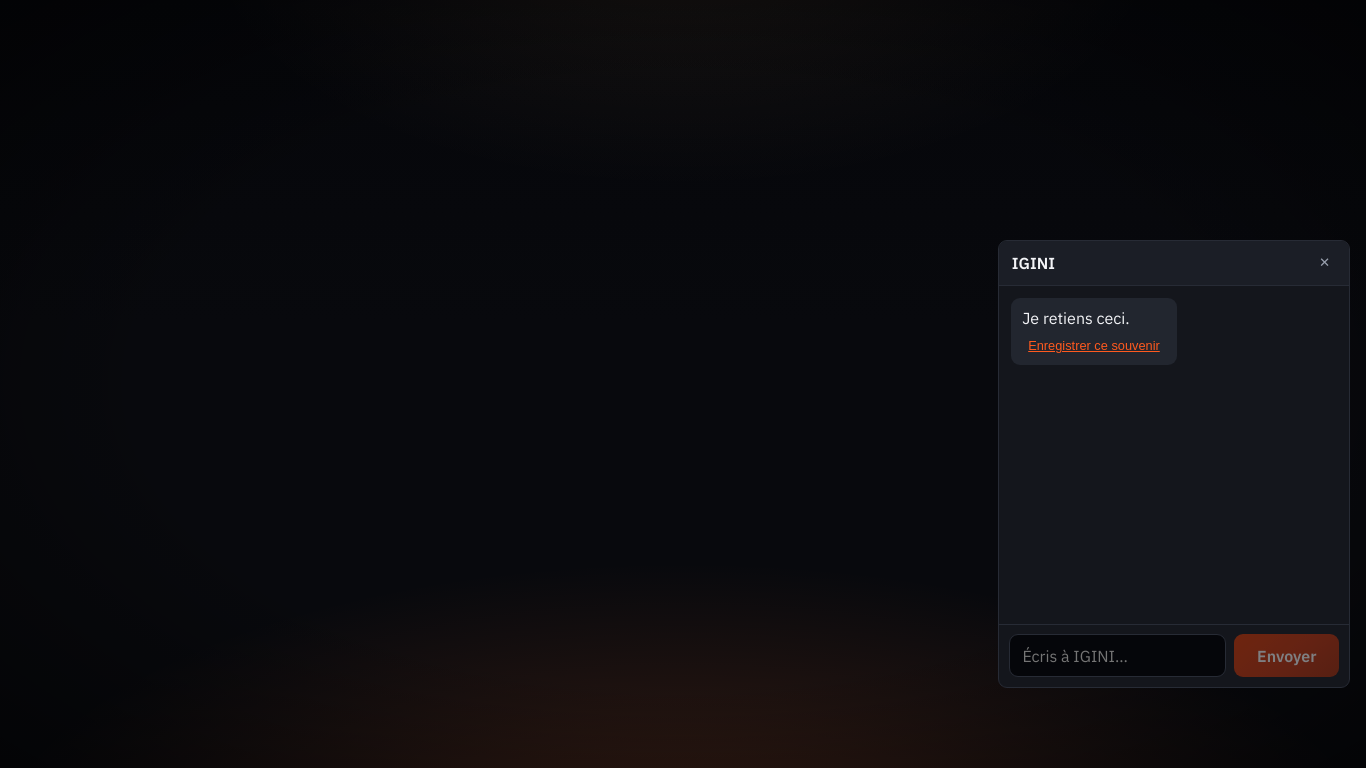
Test: ChatIgini — marqueurs › enregistre le souvenir suggéré au clic, avec la catégorie fact par défaut
This screenshot has width=1366, height=768.
Click the button "Enregistrer ce souvenir".
click(1094, 346)  # box [1022,337,1166,354]
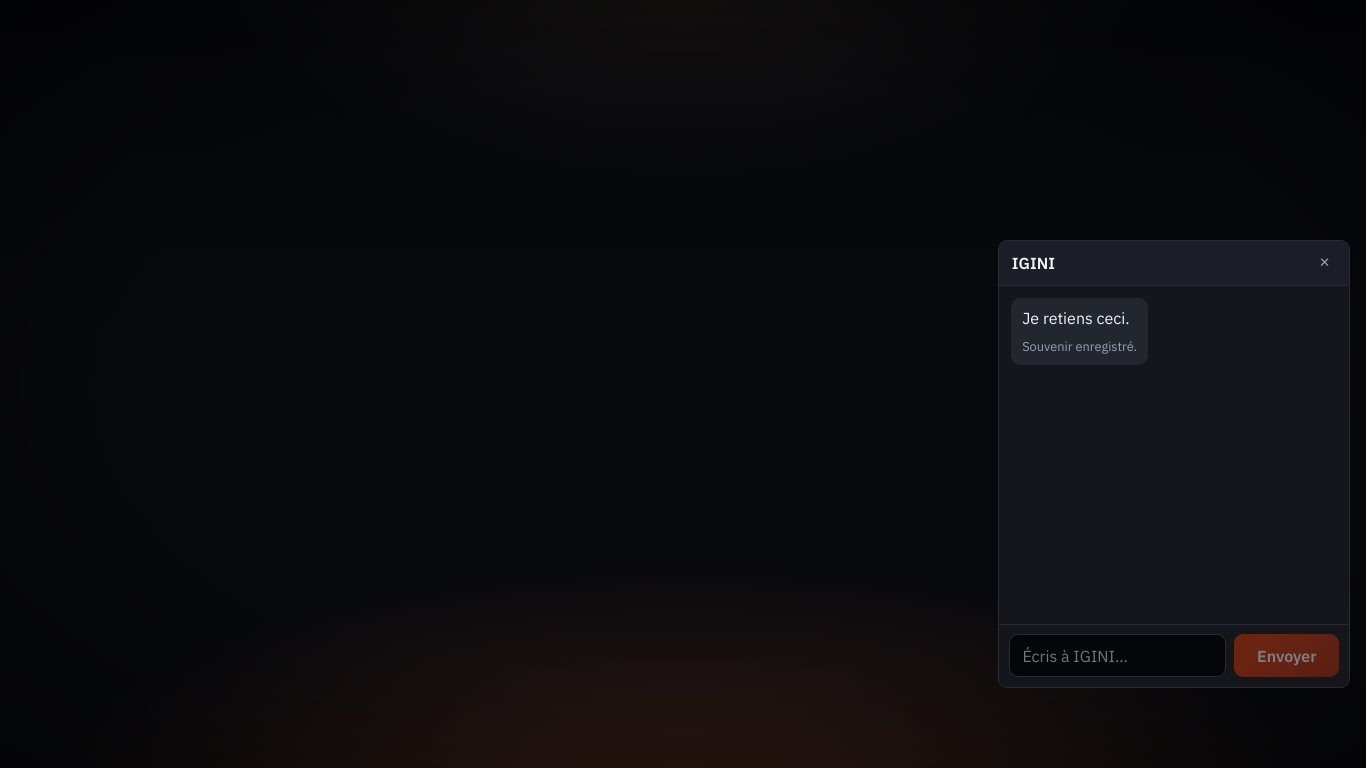
Expected: the text "Souvenir enregistré." is shown, [1022,337,1137,357]
